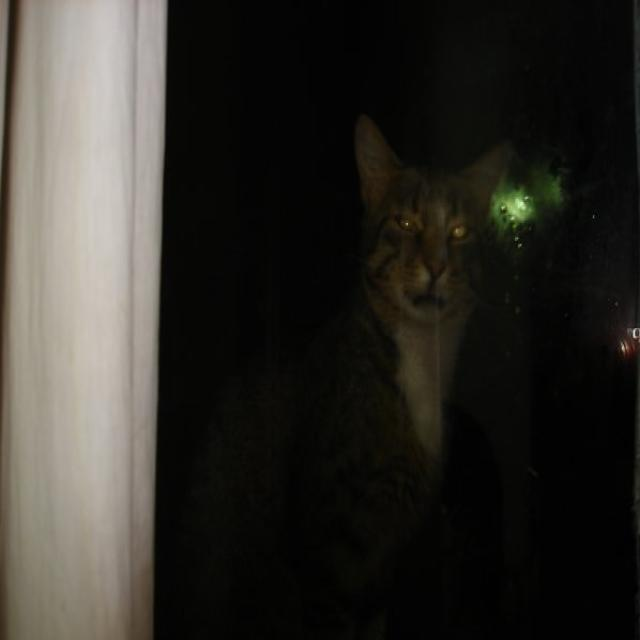Cat: (160, 106, 518, 640)
